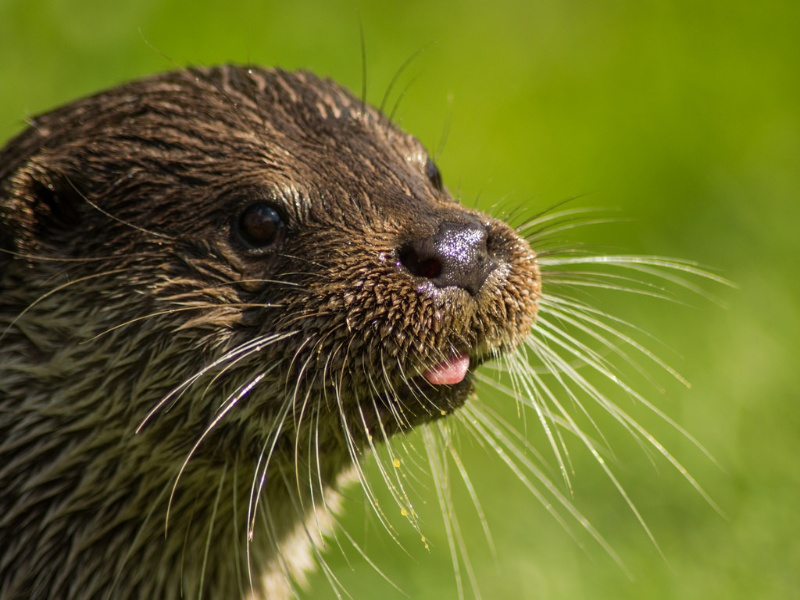minkish: (6, 57, 583, 586)
